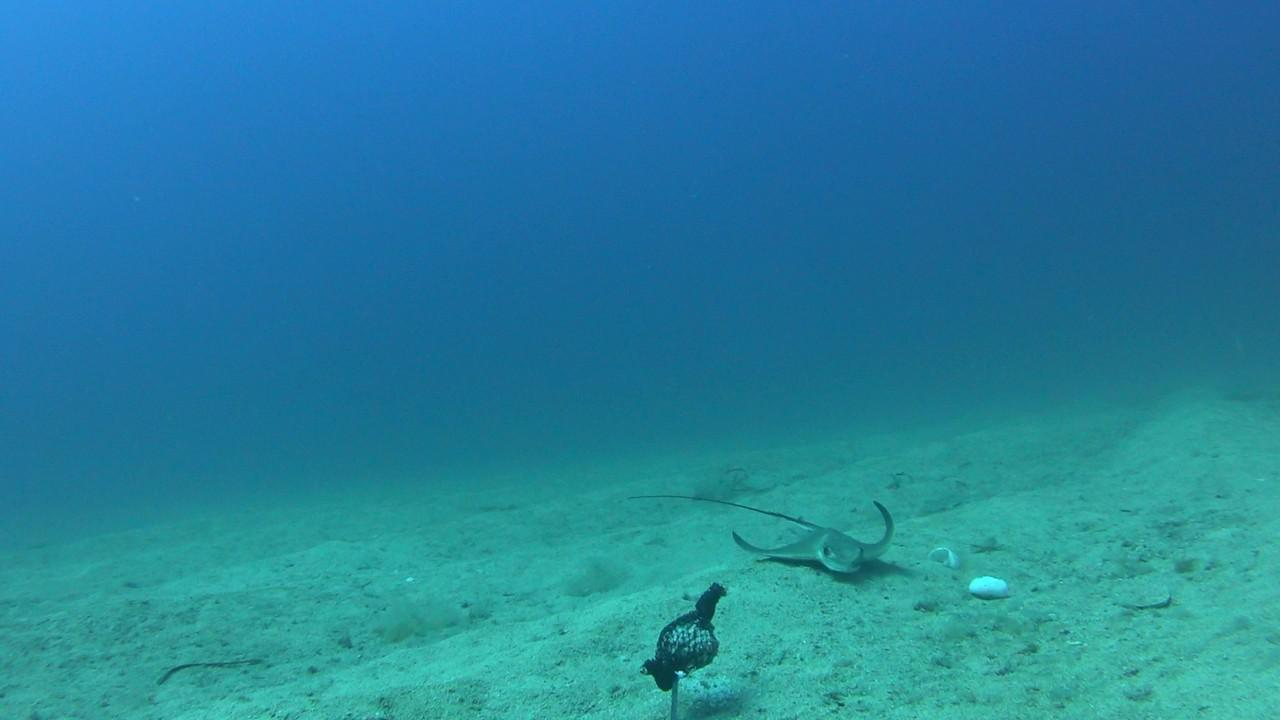myliobatis: (627, 492, 899, 575)
